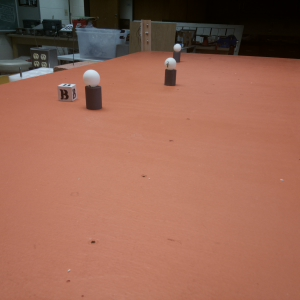blockB: (58, 82, 77, 103)
corner: (138, 18, 152, 51)
obstacle: (83, 69, 105, 111), (162, 57, 177, 86), (172, 44, 183, 58)
